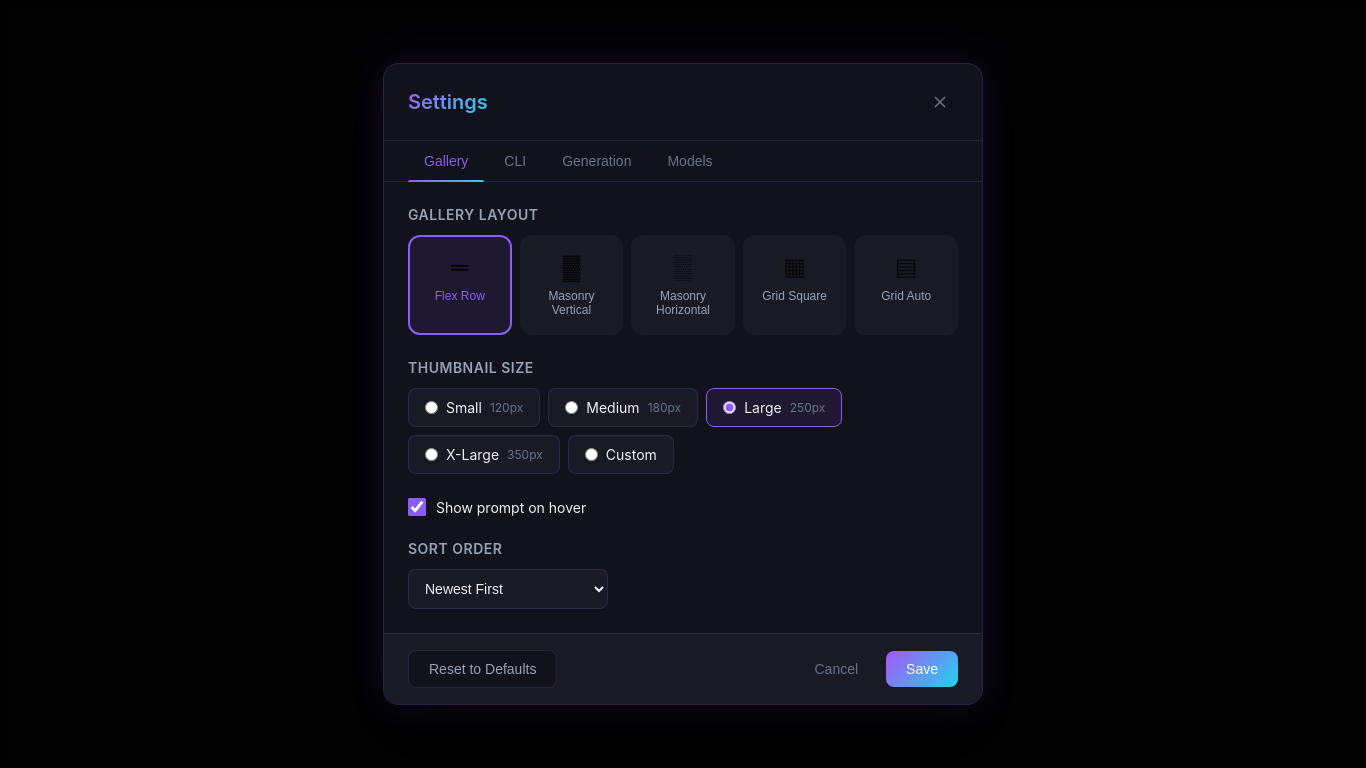
Settings Dialog › Footer Actions › shows confirmation dialog when Reset to Defaults clicked
The width and height of the screenshot is (1366, 768).
What coordinates should you click on to do the following:
click the button "Reset to Defaults"
I would click on:
 (483, 669)
Its box is [408,650,557,688].
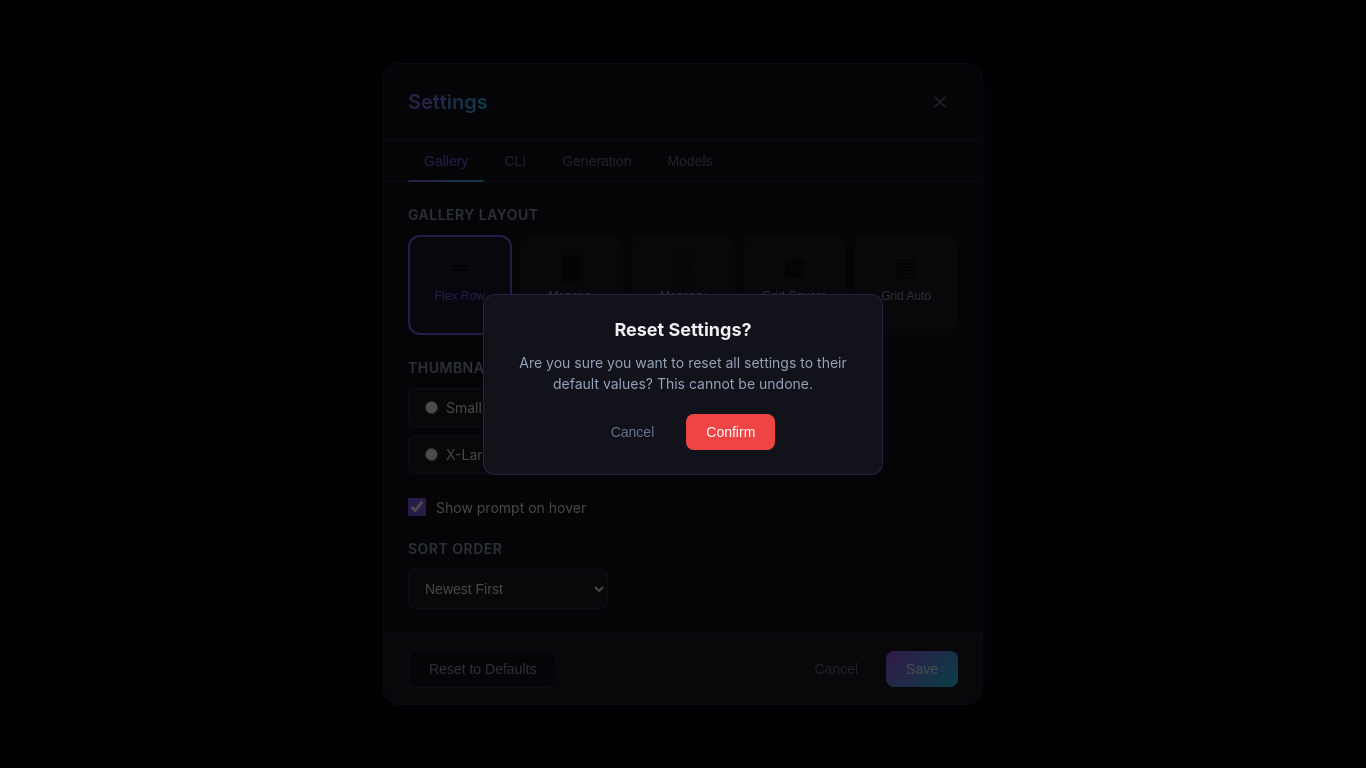
Check: the text "Are you sure" is shown, box [519,354,847,392]
Check: the button "Confirm" is shown, box [686,414,775,450]
